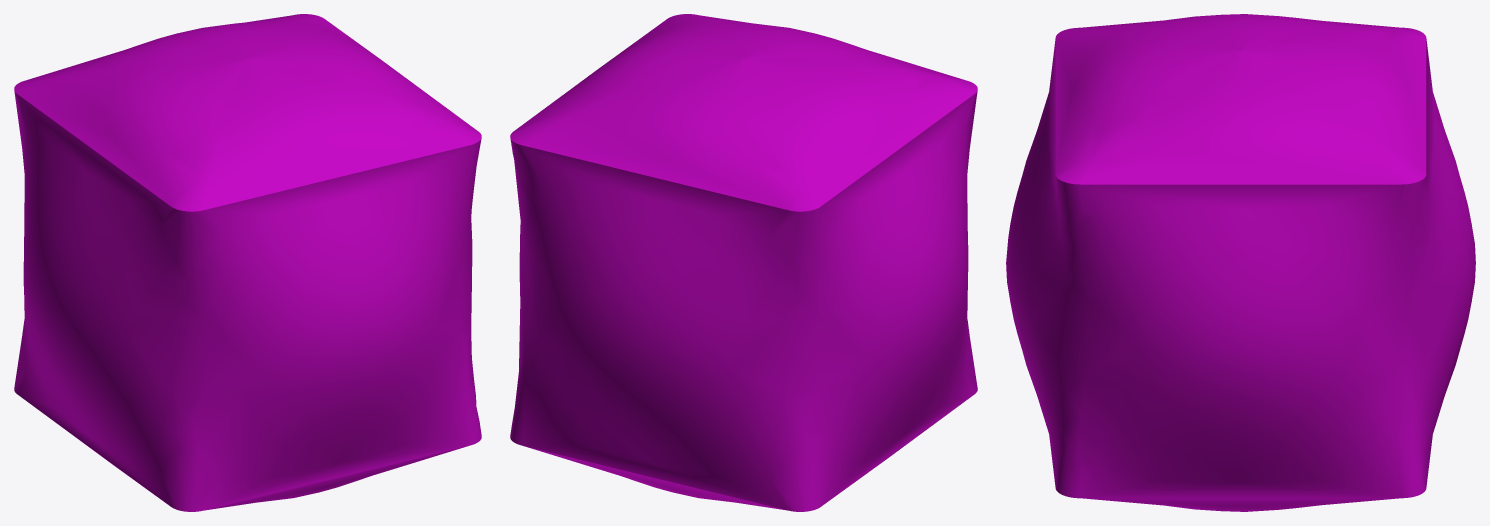
The picture shows the model from 3 angles, left to right: view 1: azimuth 30°, elevation 25°; view 2: azimuth 150°, elevation 25°; view 3: azimuth 270°, elevation 25°; orthographic projection. The views are drawn at different scales.
Visible parts, largest first — view 1: Cube v3; view 2: Cube v3; view 3: Cube v3.
Boxes of the visible parts, bbox=[...] form: Cube v3: bbox=[14, 14, 481, 511]; Cube v3: bbox=[510, 14, 977, 511]; Cube v3: bbox=[1006, 14, 1475, 511].
Size of the model in its own units: 0.2413 by 0.2413 by 0.2413.
